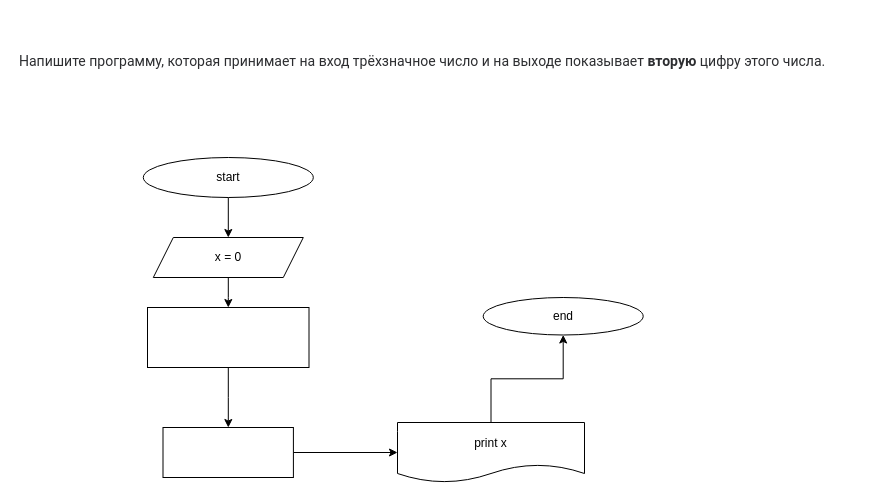
The diagram is 894 pixels wide and 500 high, and some of its shapes have lost their labels. Each missing label, with the centre of its shape:
"x = второму числу" goes at (227,452).
"ввести трехзначное число" goes at (227,337).
